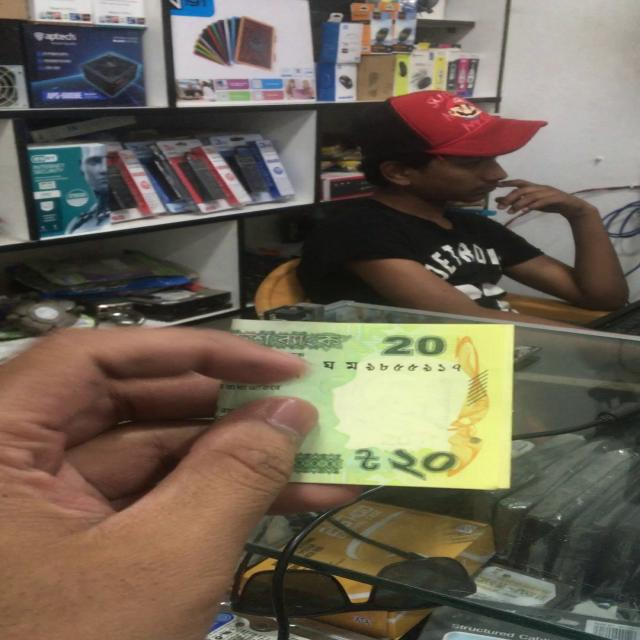Taka: (218, 313, 518, 492)
